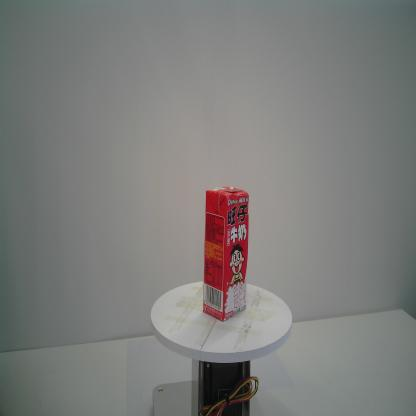Milk: (203, 186, 249, 322)
